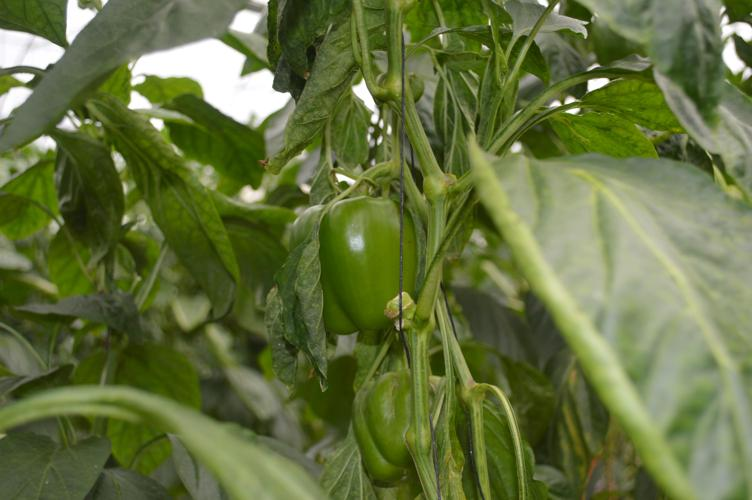BellPepper: (295, 194, 416, 336), (347, 375, 418, 482)
